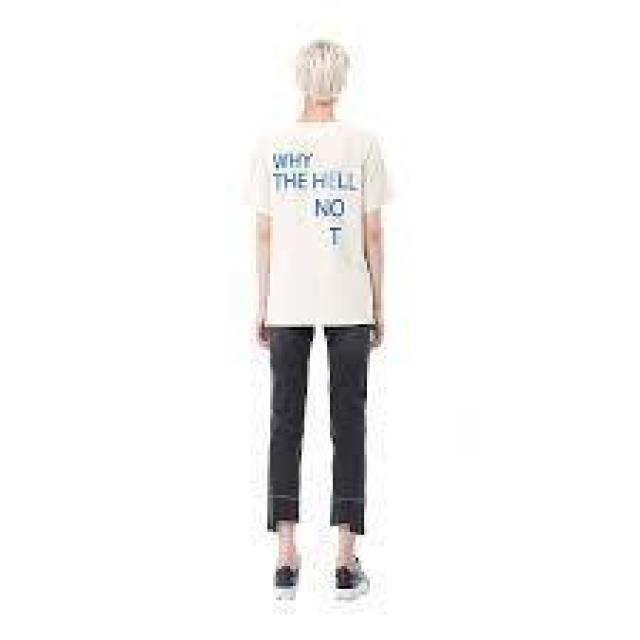Tshirt: (239, 115, 398, 329)
pants: (259, 309, 375, 539)
